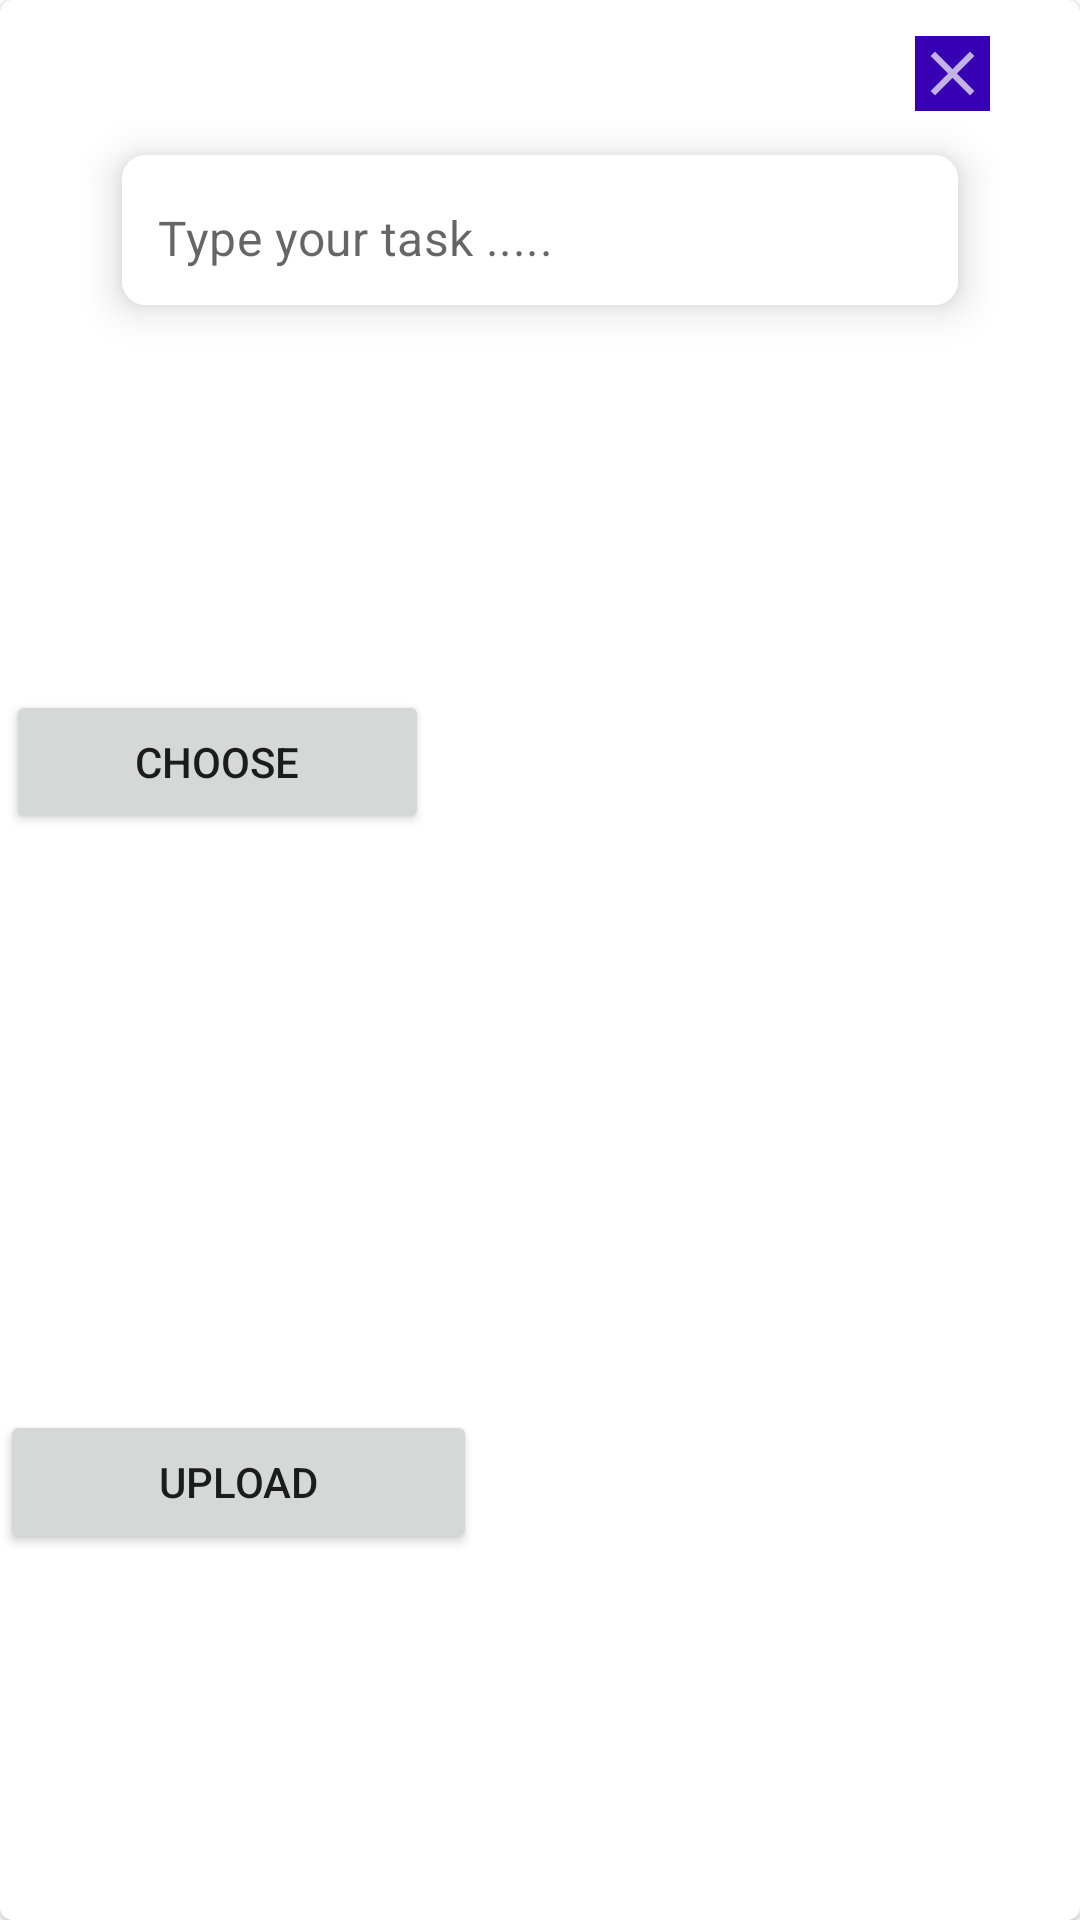

Named icons in this screenshot (1080 x 1920) and their bounding boxes, (x1, y1, x2, y2):
close: (915, 36, 990, 111)
